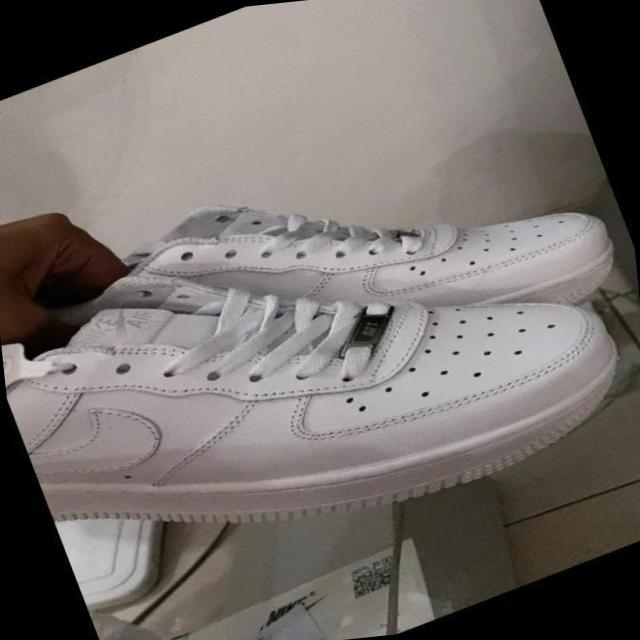nike_original_airforce: (0, 99, 640, 633), (61, 69, 640, 471)
